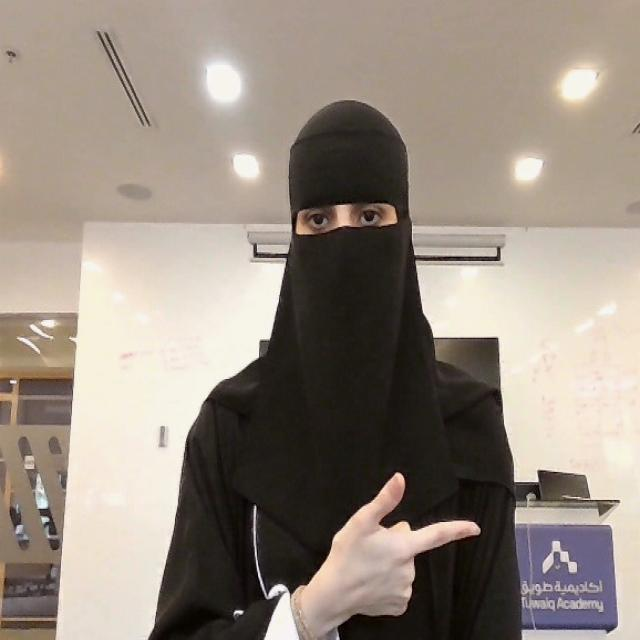dispensing: (300, 470, 480, 640)
